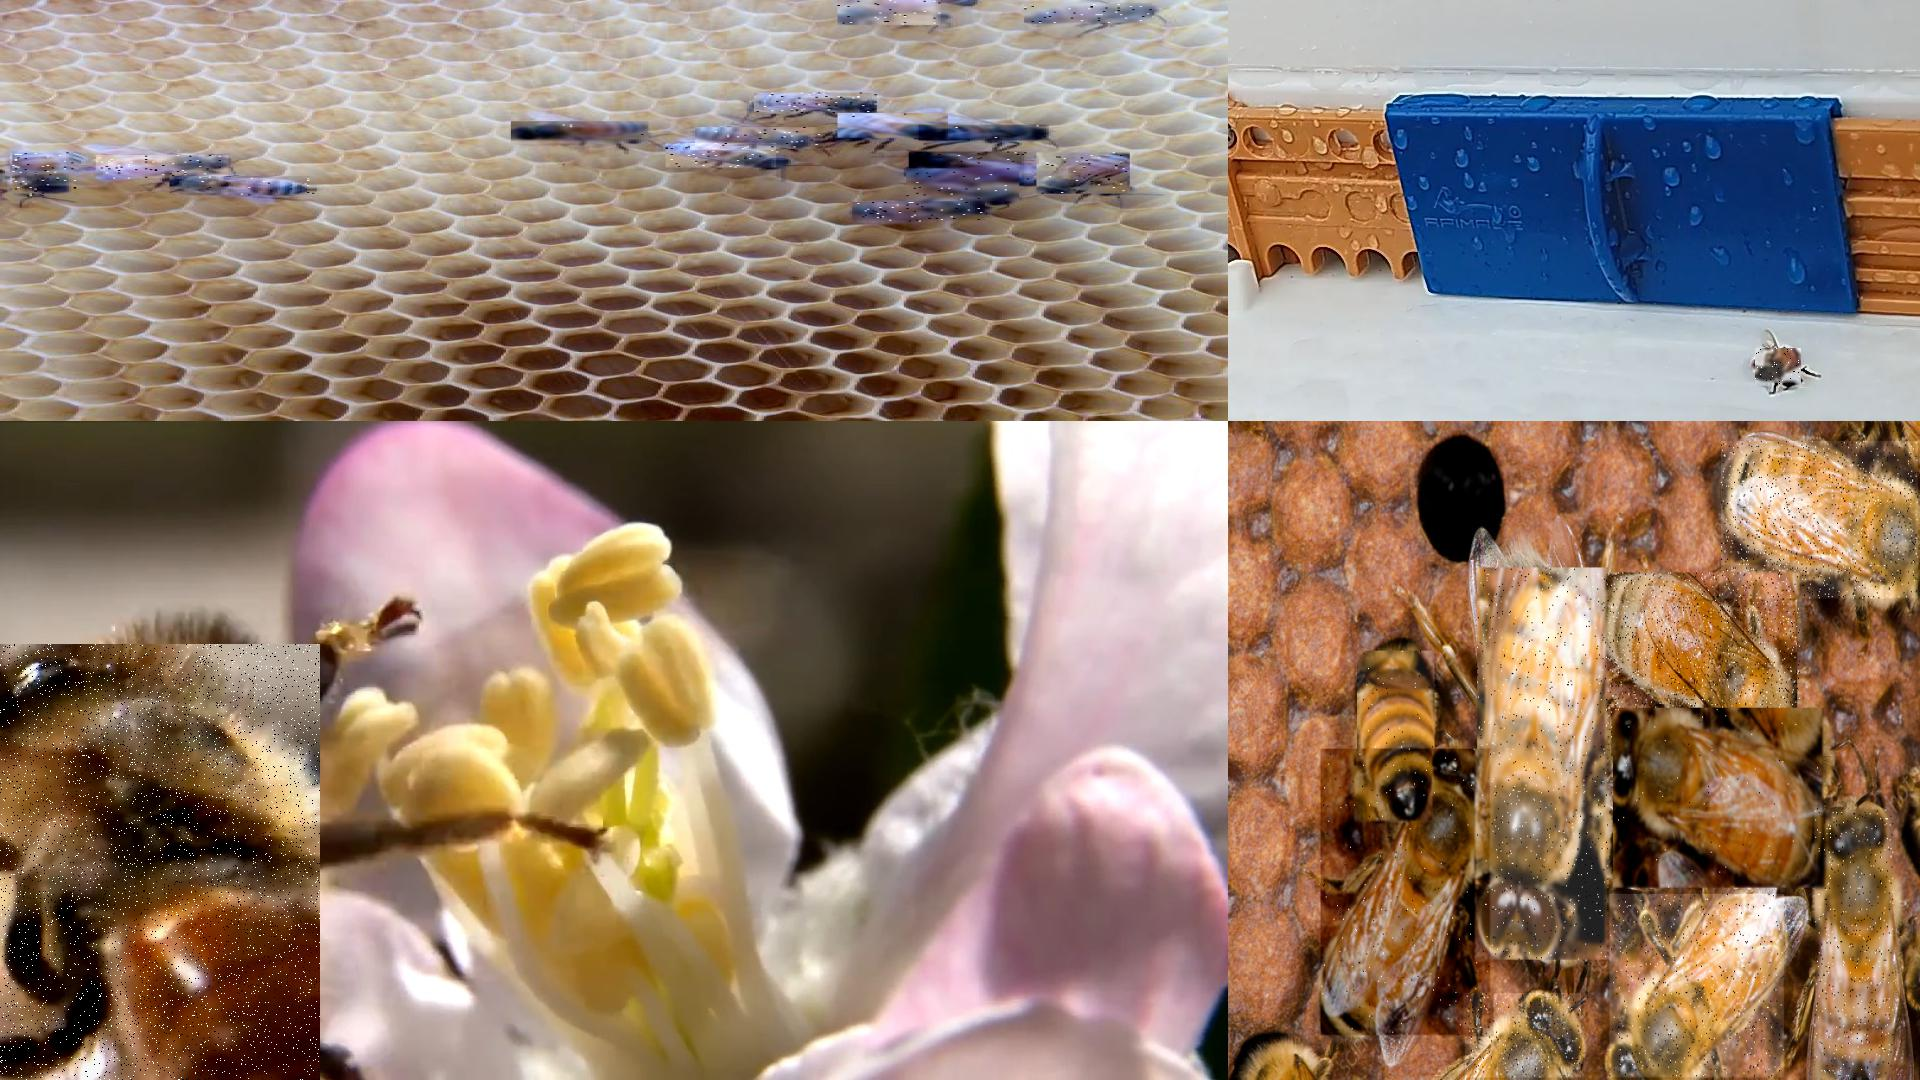bee: (0, 644, 322, 1079), (1321, 749, 1493, 1036), (1614, 708, 1826, 889), (1602, 572, 1801, 757), (1610, 894, 1785, 1079), (1721, 440, 1919, 600), (1816, 810, 1894, 1079), (1357, 651, 1436, 822), (1465, 993, 1582, 1079), (911, 152, 1034, 186), (906, 169, 1022, 204), (1036, 153, 1133, 194), (96, 154, 231, 179), (15, 152, 80, 198), (698, 127, 825, 150), (667, 144, 786, 169), (512, 123, 651, 144), (171, 177, 319, 196), (840, 0, 948, 26), (839, 113, 952, 138), (754, 92, 881, 115), (853, 203, 988, 223), (1025, 4, 1155, 24), (919, 124, 1052, 141), (1755, 348, 1803, 386)
drone: (1478, 567, 1609, 961)
